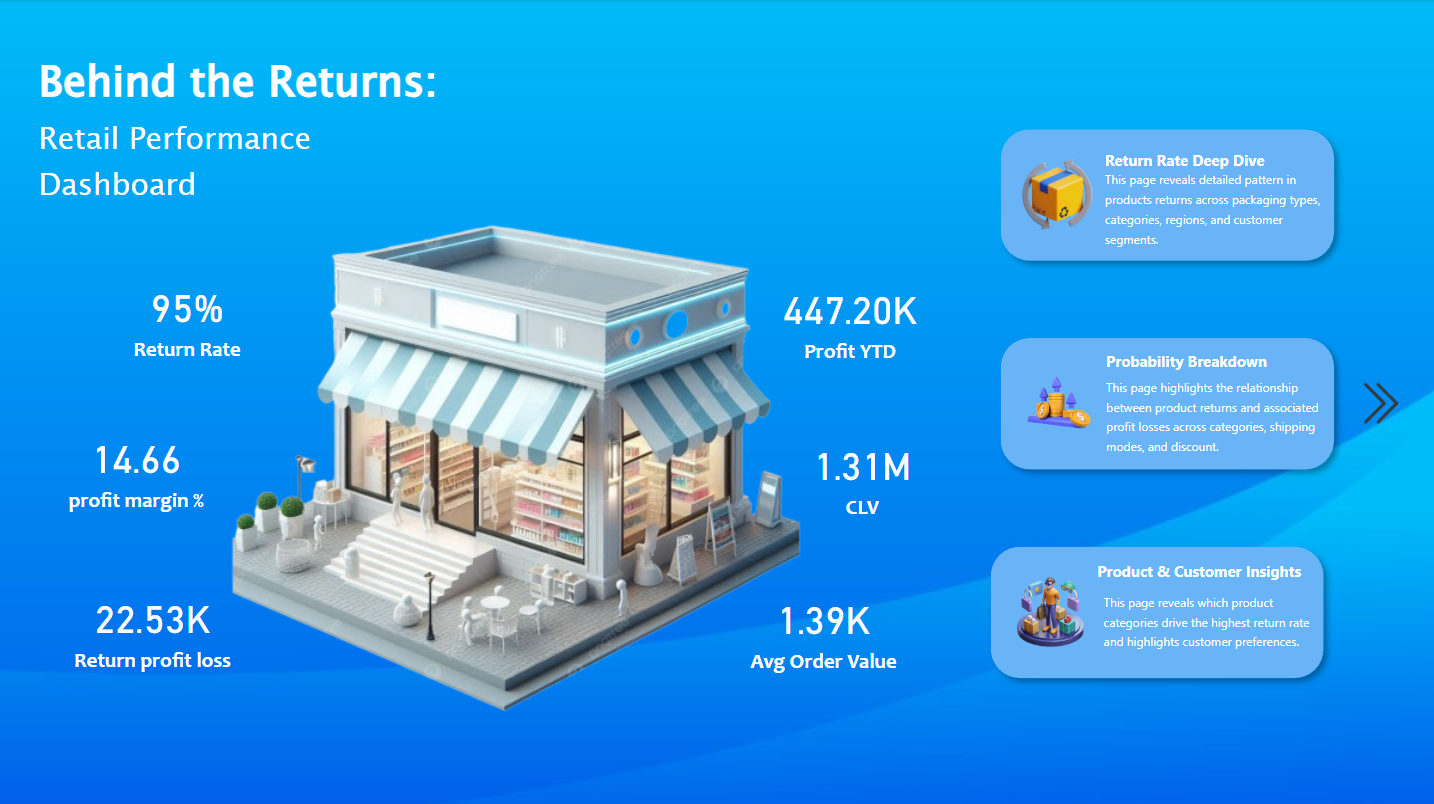

The page's visual inventory and layout, read from the dashboard file:
{"tool":"powerbi","page":{"name":"Overview","canvas":[1280,720],"ordinal":0},"visuals":[{"type":"shape","box":[882.6,105.7,317.3,137.5],"z":0,"group":"g3"},{"type":"shape","box":[882.6,291.7,317.3,137.5],"z":0,"group":"g2"},{"type":"group","id":"g1","title":"Group 3","box":[873.7,477.6,317.1,137.6],"z":0,"group":"g4"},{"type":"textbox","box":[31.4,41,390.9,202.7],"z":1000},{"type":"image","box":[906.7,318.2,74.8,83.2],"z":1000,"group":"g2"},{"type":"shape","box":[873.7,477.6,317.1,137.6],"z":1000,"group":"g1"},{"type":"group","id":"g2","title":"Group 1","box":[882.6,291.7,317.1,137.6],"z":2000},{"type":"textbox","box":[981.5,330.3,208.7,83.2],"z":2000,"group":"g2"},{"type":"textbox","box":[981.5,308.6,166.5,39.8],"z":3000,"group":"g2"},{"type":"textbox","box":[974.3,495.4,216.5,34.4],"z":3000,"group":"g4"},{"type":"image","box":[1182.3,317.3,97.7,85.7],"z":4000},{"type":"image","box":[895.4,505.6,84.1,81.5],"z":4000,"group":"g1"},{"type":"image","box":[905.5,137.1,74.8,74.8],"z":5000,"group":"g3"},{"type":"image","box":[79.6,147.2,762.5,541.7],"z":5000},{"type":"card","fields":{"Values":["Retail.Return Rate"]},"box":[79.4,226.5,178.9,116.9],"z":6000},{"type":"textbox","box":[980.3,128.6,167.7,33.8],"z":7000,"group":"g3"},{"type":"card","fields":{"Values":["Retail.profit margin%"]},"box":[20.2,359.2,206.3,118.3],"z":7000},{"type":"textbox","box":[980.3,145.5,209.9,83.2],"z":8000,"group":"g3"},{"type":"card","fields":{"Values":["Retail.Return profit loss"]},"box":[49.1,509.3,177.5,102.4],"z":8000},{"type":"card","fields":{"Values":["Retail.Annual Sales"]},"box":[655.9,228,206.3,115.9],"z":9000},{"type":"card","fields":{"Values":["Retail.Avg Order Value"]},"box":[655.9,510.7,159.2,101.9],"z":10000},{"type":"card","fields":{"Values":["Retail.CLV"]},"box":[712,380.8,114.6,89.2],"z":11000},{"type":"textbox","box":[979.4,522.2,208.9,65],"z":11000,"group":"g1"},{"type":"group","id":"g3","title":"Group 2","box":[882.6,105.7,317.1,137.6],"z":12000},{"type":"group","id":"g4","title":"Group 4","box":[873.7,477.6,317.1,137.6],"z":12001}]}

Visuals, with their boxes in screenshot pixels (x1, y1, x2, y2), scaled from the page's 1280x720 canvas onto the 1434x804 screenshot:
shape: pyautogui.locateOnScreen(989, 118, 1344, 272)
shape: pyautogui.locateOnScreen(989, 326, 1344, 479)
"Group 3" group: pyautogui.locateOnScreen(979, 533, 1334, 687)
textbox: pyautogui.locateOnScreen(35, 46, 473, 272)
image: pyautogui.locateOnScreen(1016, 355, 1100, 448)
shape: pyautogui.locateOnScreen(979, 533, 1334, 687)
"Group 1" group: pyautogui.locateOnScreen(989, 326, 1344, 479)
textbox: pyautogui.locateOnScreen(1100, 369, 1333, 462)
textbox: pyautogui.locateOnScreen(1100, 345, 1286, 389)
textbox: pyautogui.locateOnScreen(1092, 553, 1334, 592)
image: pyautogui.locateOnScreen(1325, 354, 1433, 450)
image: pyautogui.locateOnScreen(1003, 565, 1097, 656)
image: pyautogui.locateOnScreen(1014, 153, 1098, 237)
image: pyautogui.locateOnScreen(89, 164, 943, 769)
card - Retail.Return Rate: pyautogui.locateOnScreen(89, 253, 289, 383)
textbox: pyautogui.locateOnScreen(1098, 144, 1286, 181)
card - Retail.profit margin%: pyautogui.locateOnScreen(23, 401, 254, 533)
textbox: pyautogui.locateOnScreen(1098, 162, 1333, 255)
card - Retail.Return profit loss: pyautogui.locateOnScreen(55, 569, 254, 683)
card - Retail.Annual Sales: pyautogui.locateOnScreen(735, 255, 966, 384)
card - Retail.Avg Order Value: pyautogui.locateOnScreen(735, 570, 913, 684)
card - Retail.CLV: pyautogui.locateOnScreen(798, 425, 926, 525)
textbox: pyautogui.locateOnScreen(1097, 583, 1331, 656)
"Group 2" group: pyautogui.locateOnScreen(989, 118, 1344, 272)
"Group 4" group: pyautogui.locateOnScreen(979, 533, 1334, 687)
